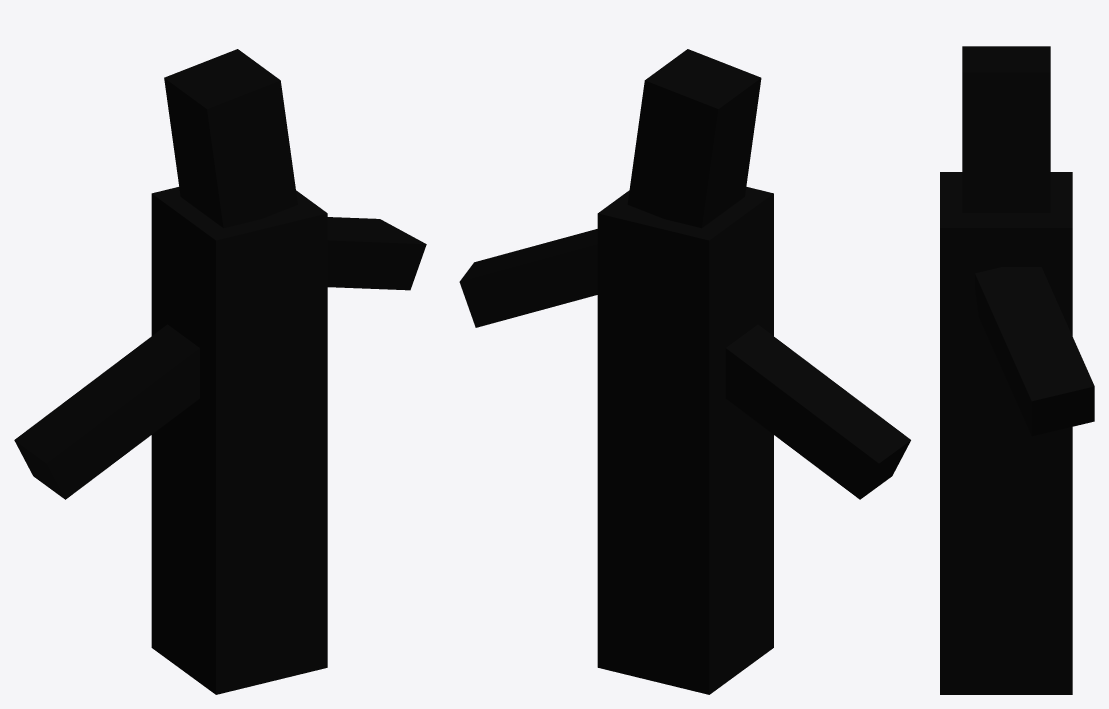
The model's file is frozen_tree.gltf.
The picture shows the model from 3 angles, left to right: view 1: azimuth 30°, elevation 25°; view 2: azimuth 150°, elevation 25°; view 3: azimuth 270°, elevation 25°; orthographic projection. The views are drawn at different scales.
Parts seen in each view (by area): view 1: trunk, top, branch_l, branch_r; view 2: trunk, top, branch_l, branch_r; view 3: trunk, top, branch_r.
Boxes of the visible parts, bbox=[...] form: trunk: bbox=[151, 187, 327, 694]; top: bbox=[164, 49, 297, 228]; branch_l: bbox=[14, 324, 199, 499]; branch_r: bbox=[327, 217, 426, 290]; trunk: bbox=[597, 186, 773, 694]; top: bbox=[627, 49, 761, 228]; branch_l: bbox=[725, 324, 910, 499]; branch_r: bbox=[459, 229, 597, 327]; trunk: bbox=[940, 172, 1072, 694]; top: bbox=[962, 46, 1050, 212]; branch_r: bbox=[975, 267, 1094, 436].
Bounding box in the file's own units: 0.8254 × 1.19 × 0.2627.
2 materials, 2 textured.
